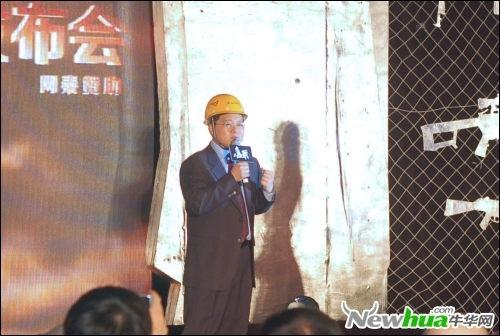helmet: (203, 95, 251, 123)
